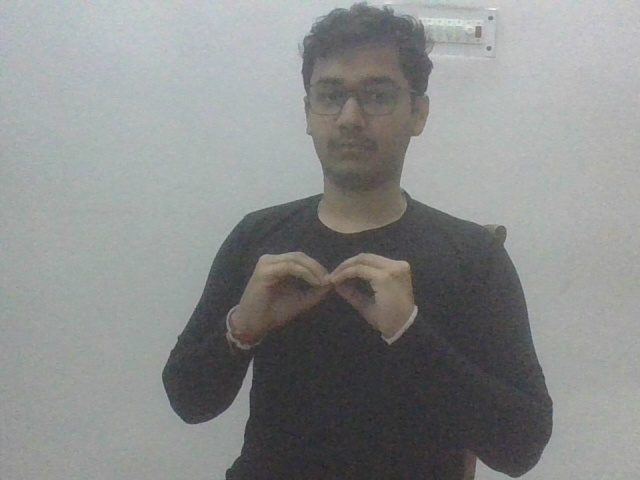B: (233, 244, 418, 344)
